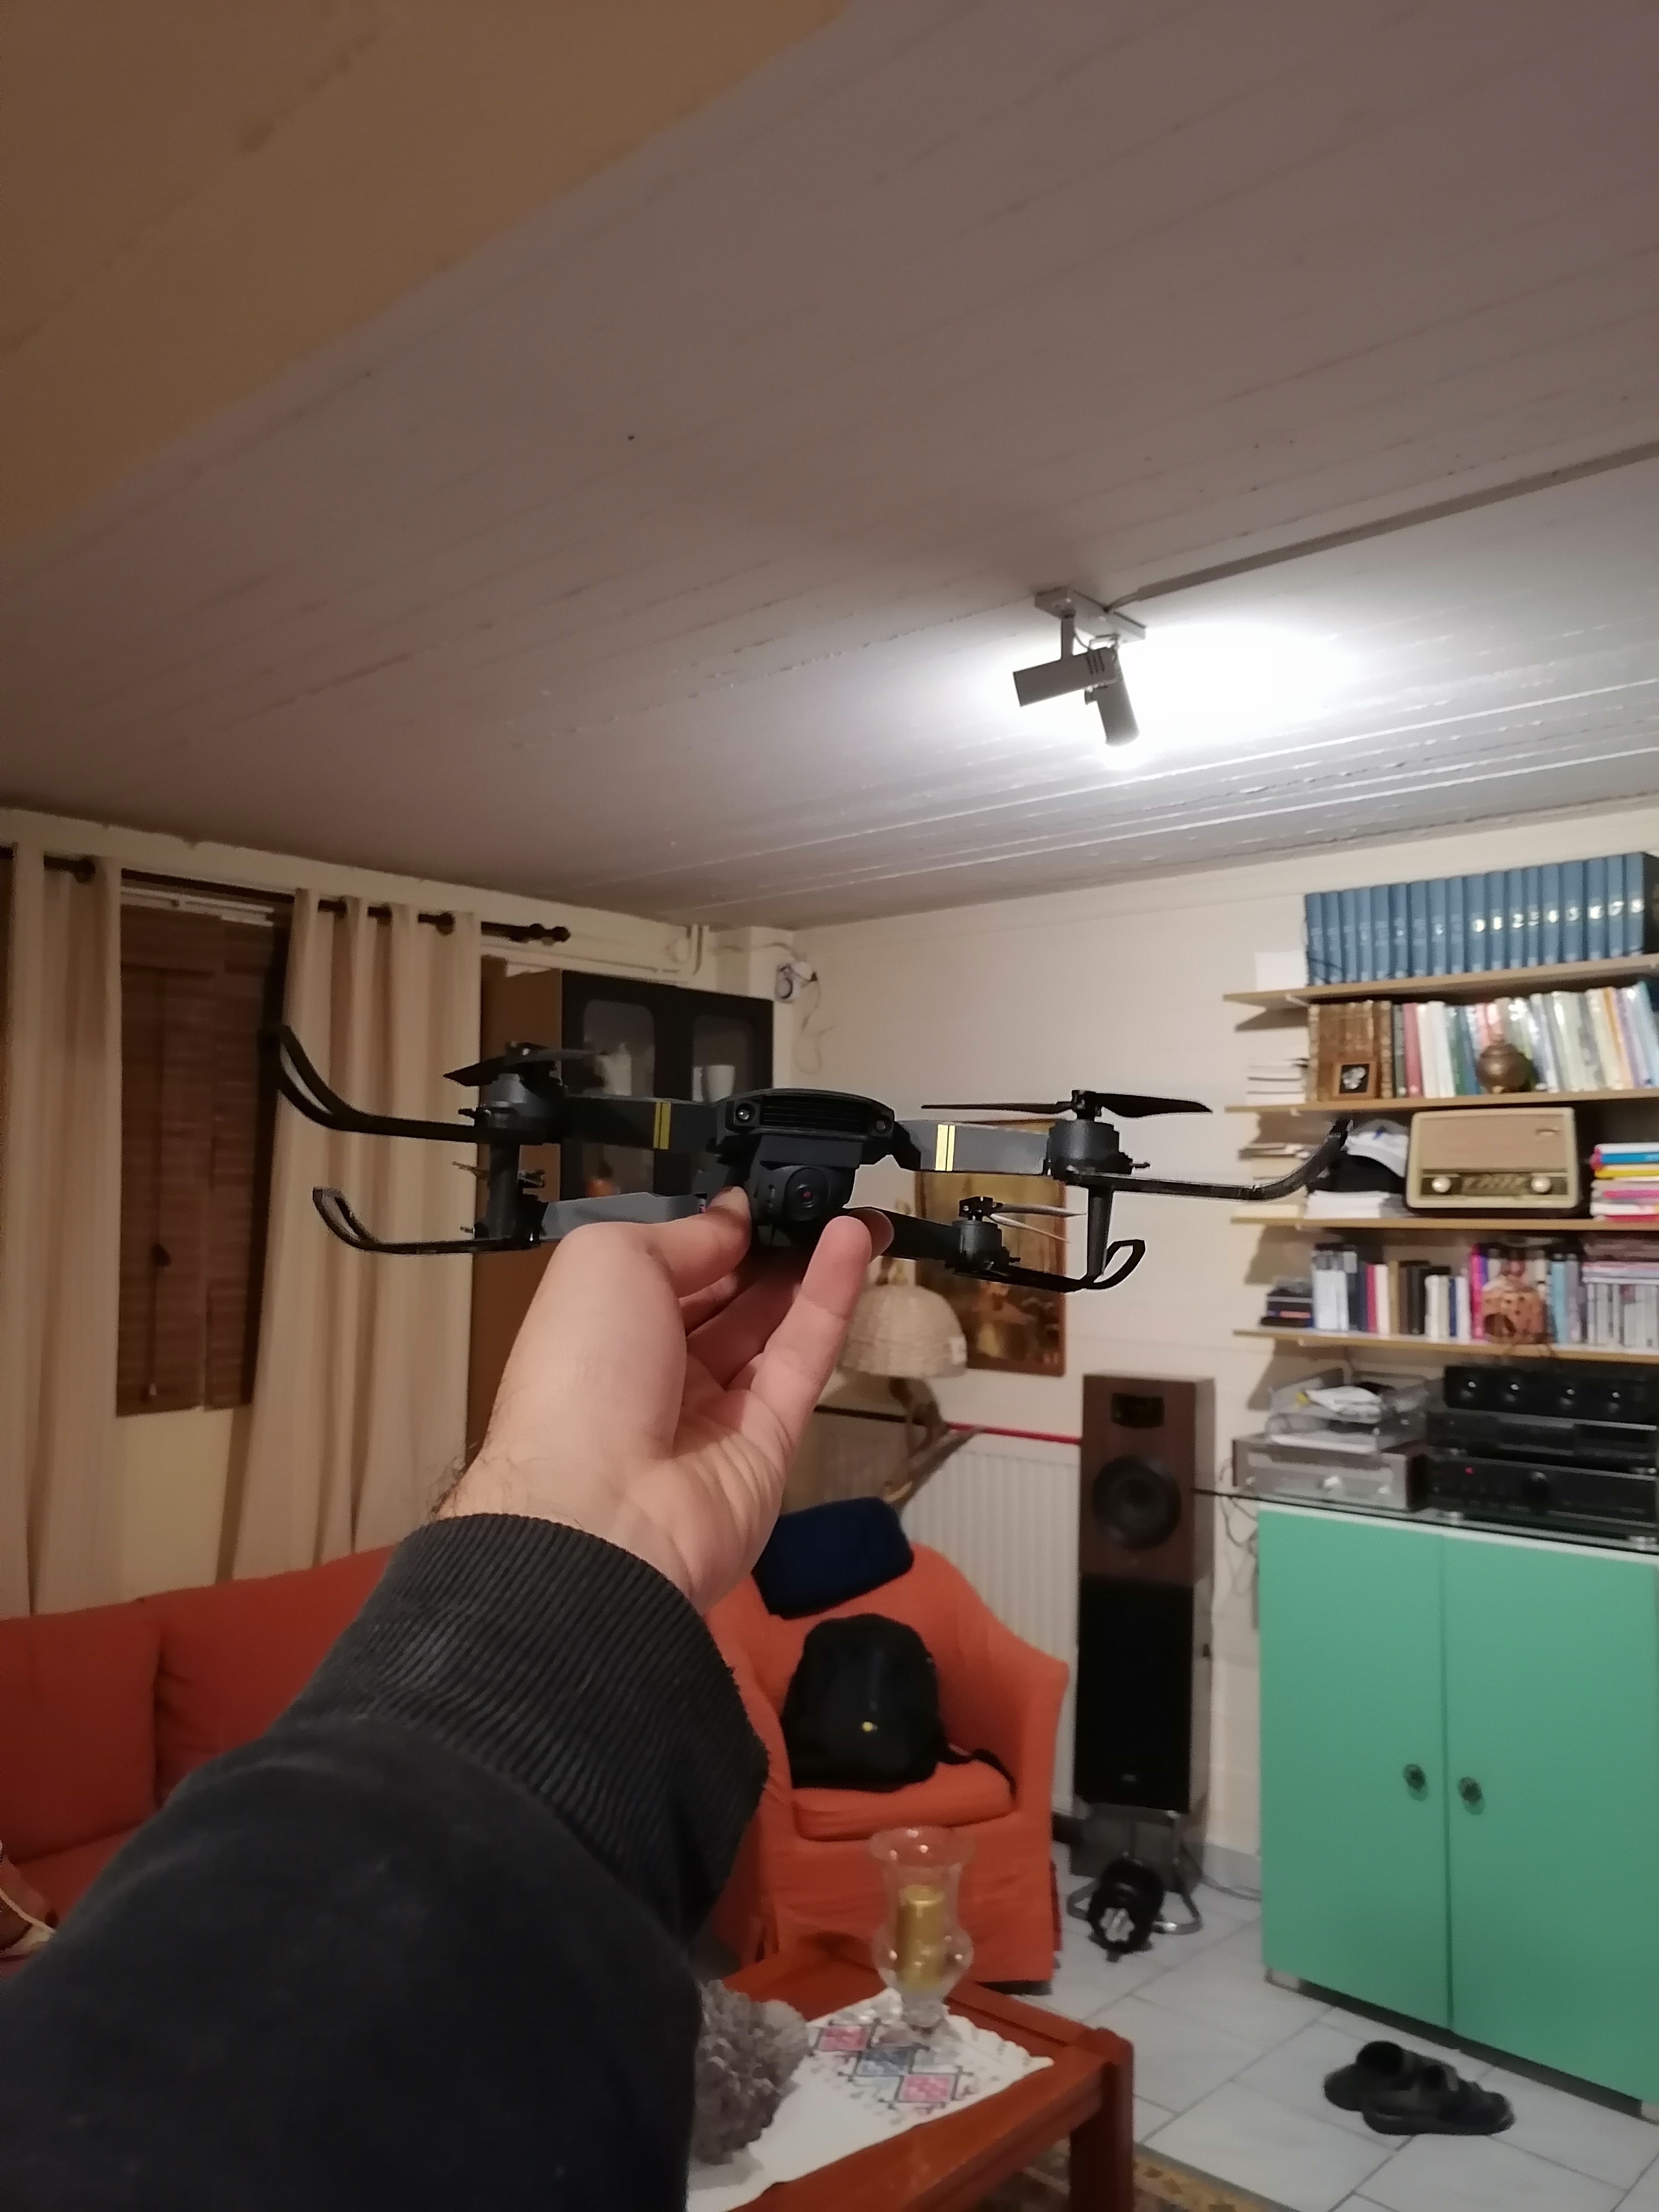drone: (199, 965, 1436, 1348)
